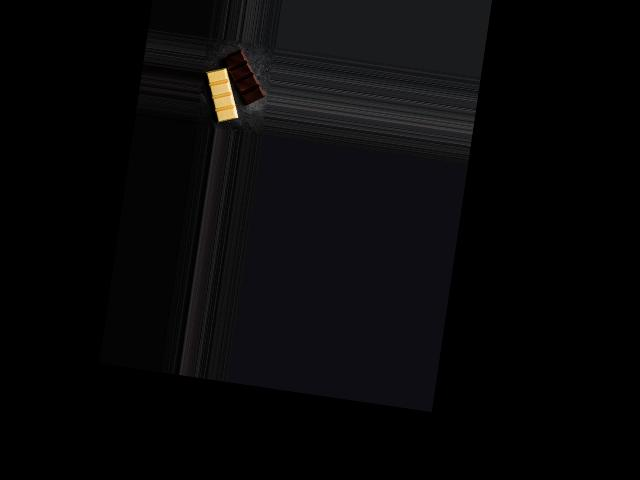chocolate: (199, 45, 269, 131)
